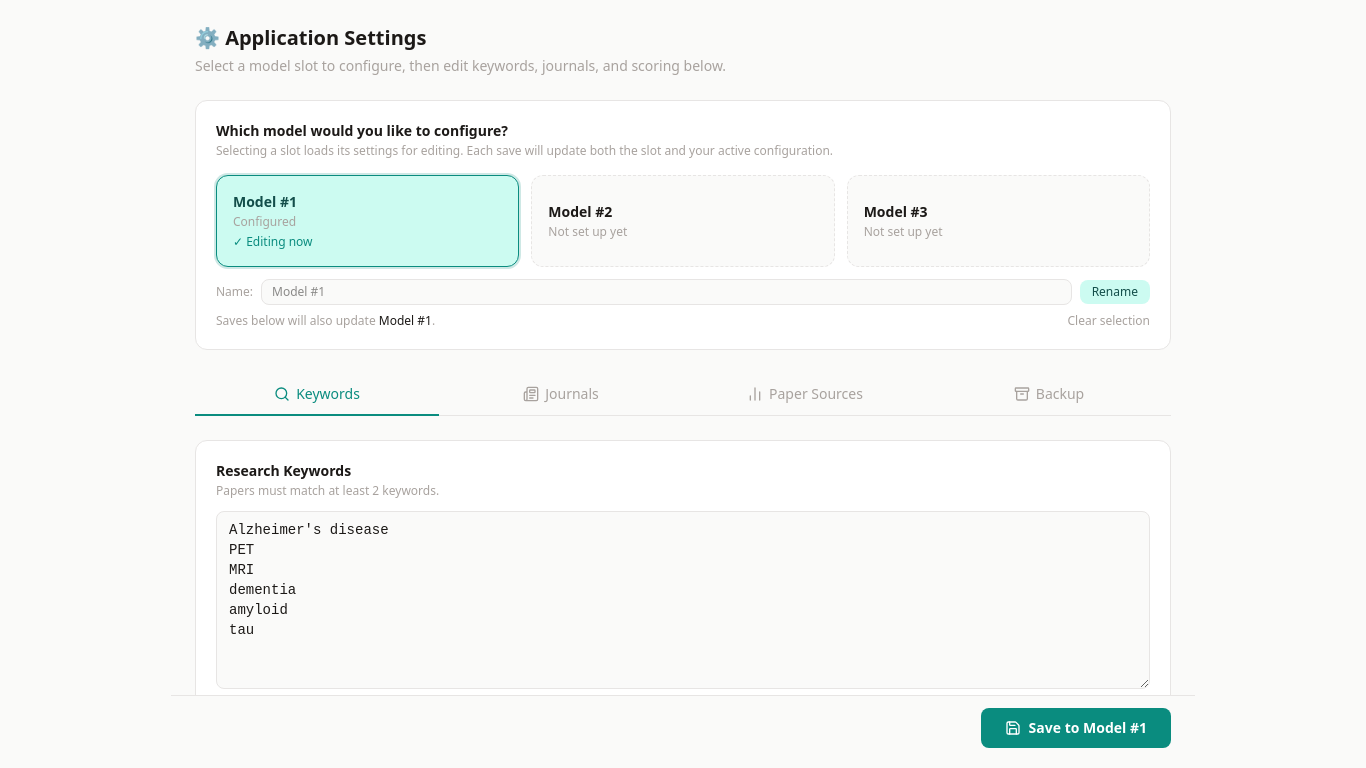
Test: SettingsTab › switches to Paper Sources sub-tab
The image size is (1366, 768).
Click the button "Model #1 Configured ✓ Editing now": (265, 202) [216,175,519,267]
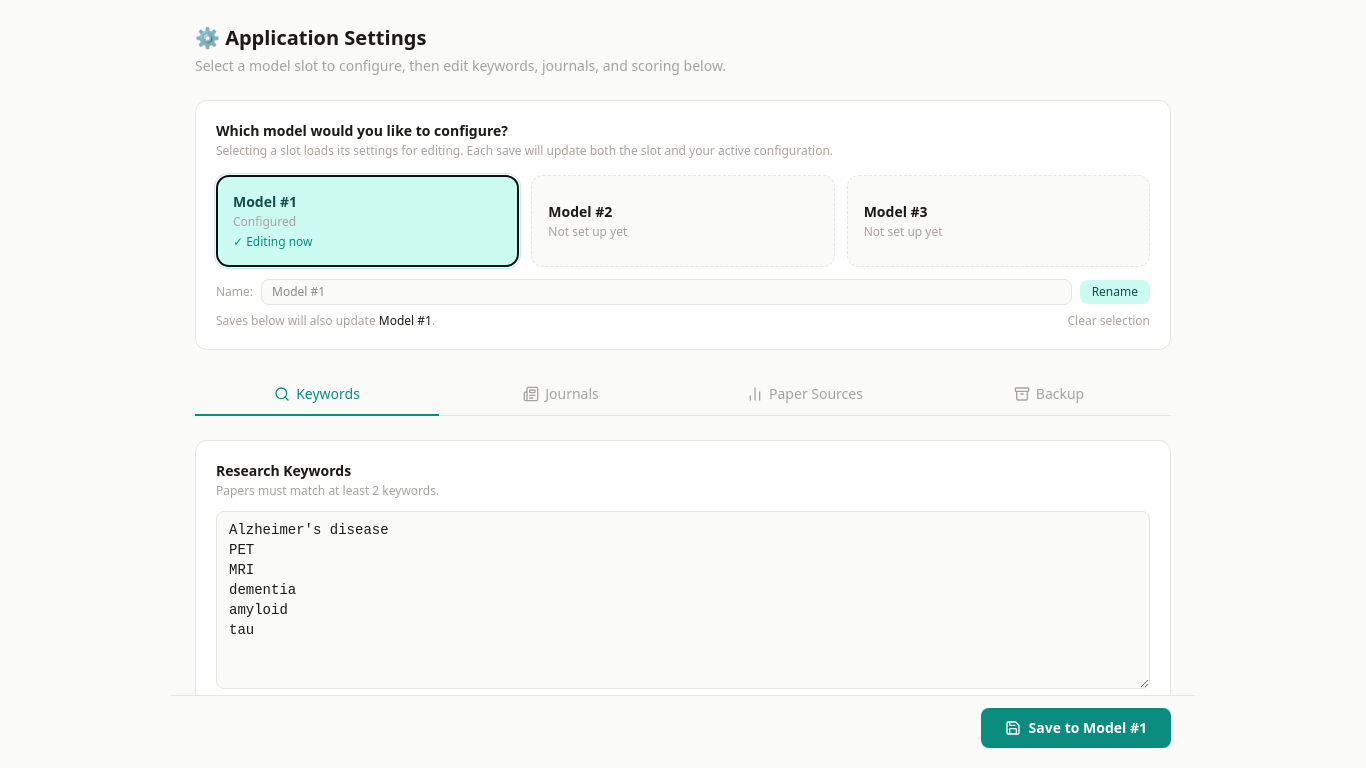
Expected: the button "Keywords" is shown, [195,374,439,416]
Click the button "Paper Sources": (805, 395) [683,374,927,416]
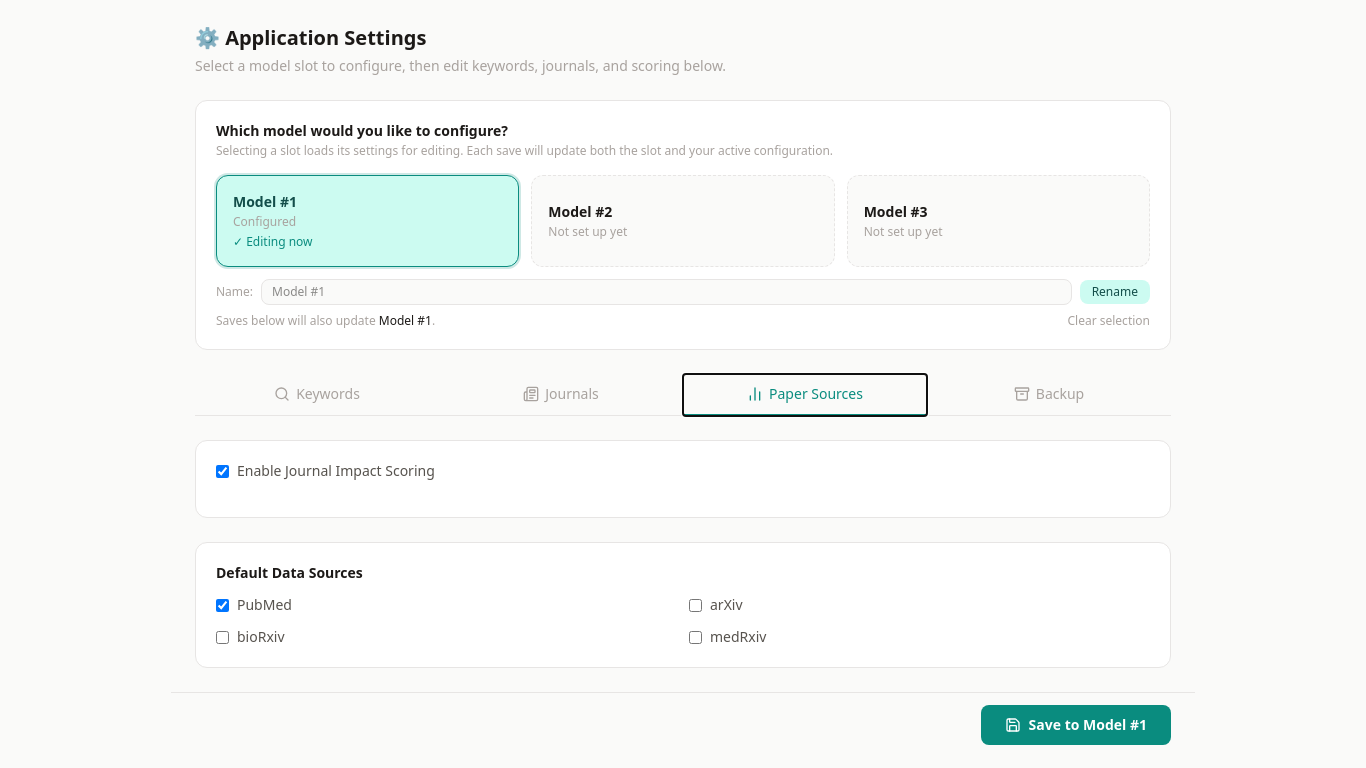
Expected: the checkbox labelled "Enable Journal Impact Scoring" is shown, [216,464,229,478]
